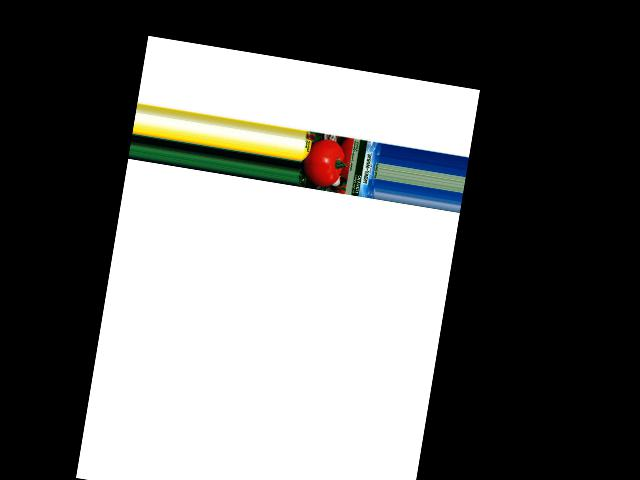tomato: (299, 136, 346, 188)
